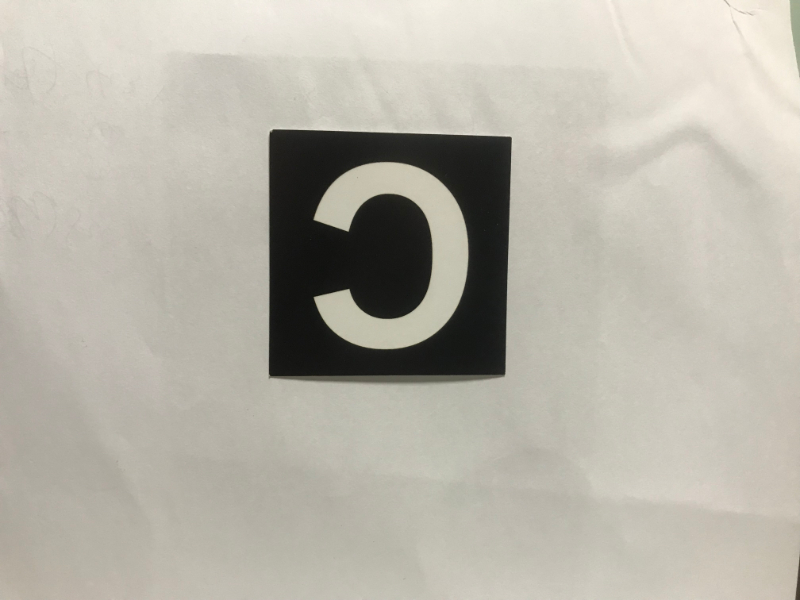C-13: (276, 139, 503, 371)
